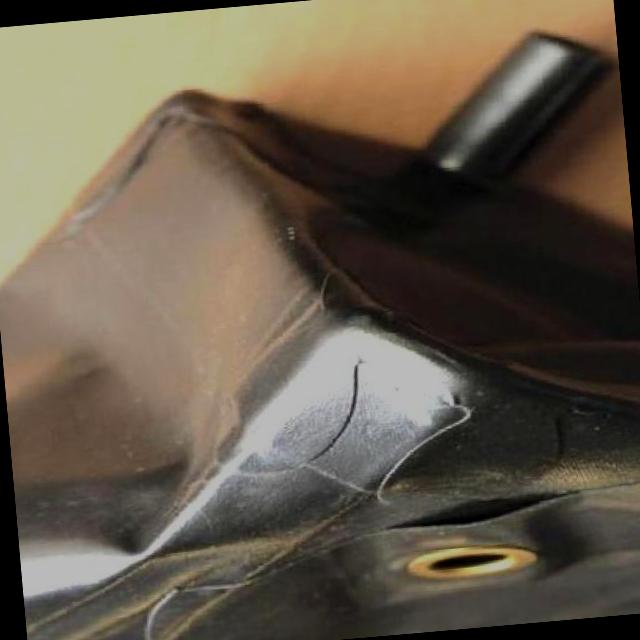crack: (300, 331, 374, 438)
